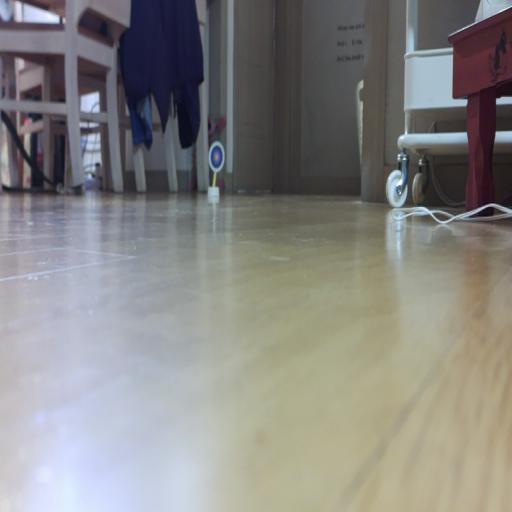target: (209, 142, 225, 171)
